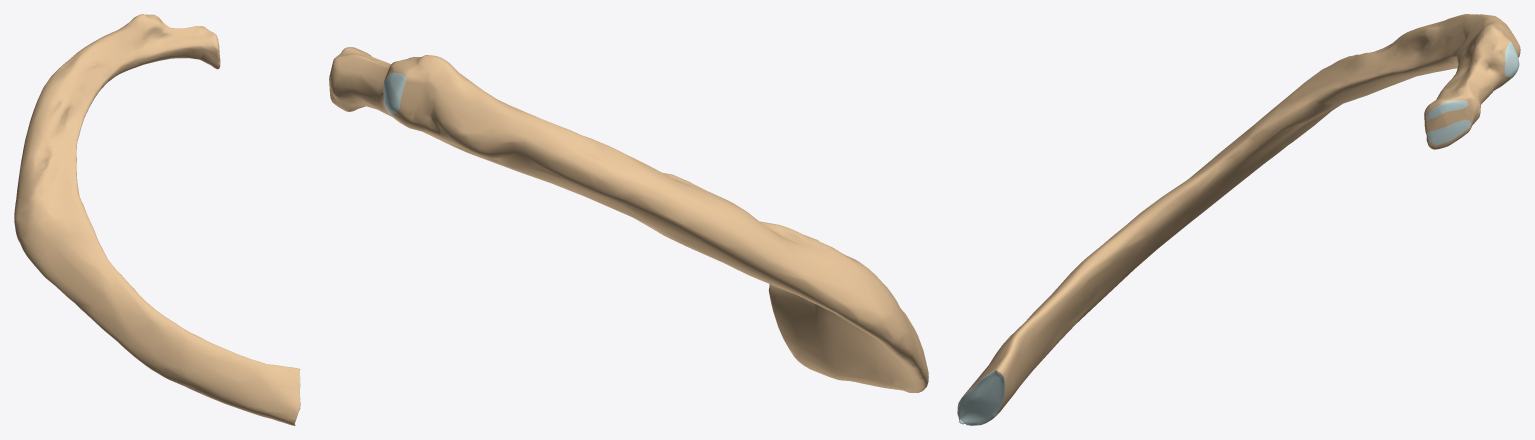
The model's file is 2d_rib.r_Generated_Mesh_From_X3D.856.glb.
The picture shows the model from 3 angles, left to right: view 1: azimuth 30°, elevation 25°; view 2: azimuth 150°, elevation 25°; view 3: azimuth 270°, elevation 25°; orthographic projection. The views are drawn at different scales.
Visible parts, largest first — view 1: 2d_rib.r_Generated_Mesh_From_X3D.856; view 2: 2d_rib.r_Generated_Mesh_From_X3D.856; view 3: 2d_rib.r_Generated_Mesh_From_X3D.856.
Part boxes in pixels (box(x1,y1,x2,y2)): 2d_rib.r_Generated_Mesh_From_X3D.856: box(14, 14, 300, 425); 2d_rib.r_Generated_Mesh_From_X3D.856: box(329, 47, 928, 392); 2d_rib.r_Generated_Mesh_From_X3D.856: box(957, 14, 1520, 425).
Bounding box in the file's own units: 0.0821 × 0.0913 × 0.112.
